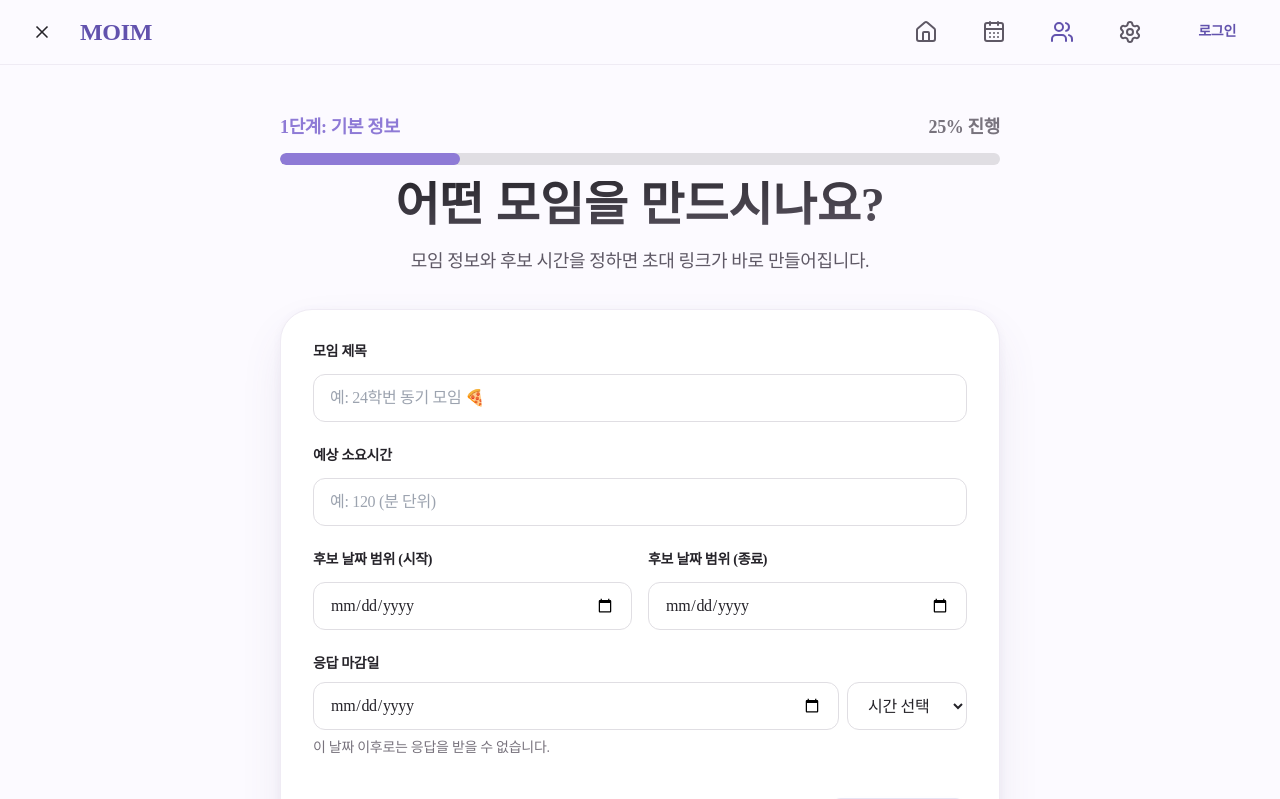
Test: CreateScheduleClient 복사 피드백 › 하단 노란 '참여자 링크 복사' 버튼 클릭 시 클립보드에 쓰고 '복사됨'으로 바뀐다
This screenshot has width=1280, height=799.
Type "60" into the number field labelled "예상 소요시간" at {"x": 640, "y": 502}, box [313, 478, 967, 526]
(page scrolled)
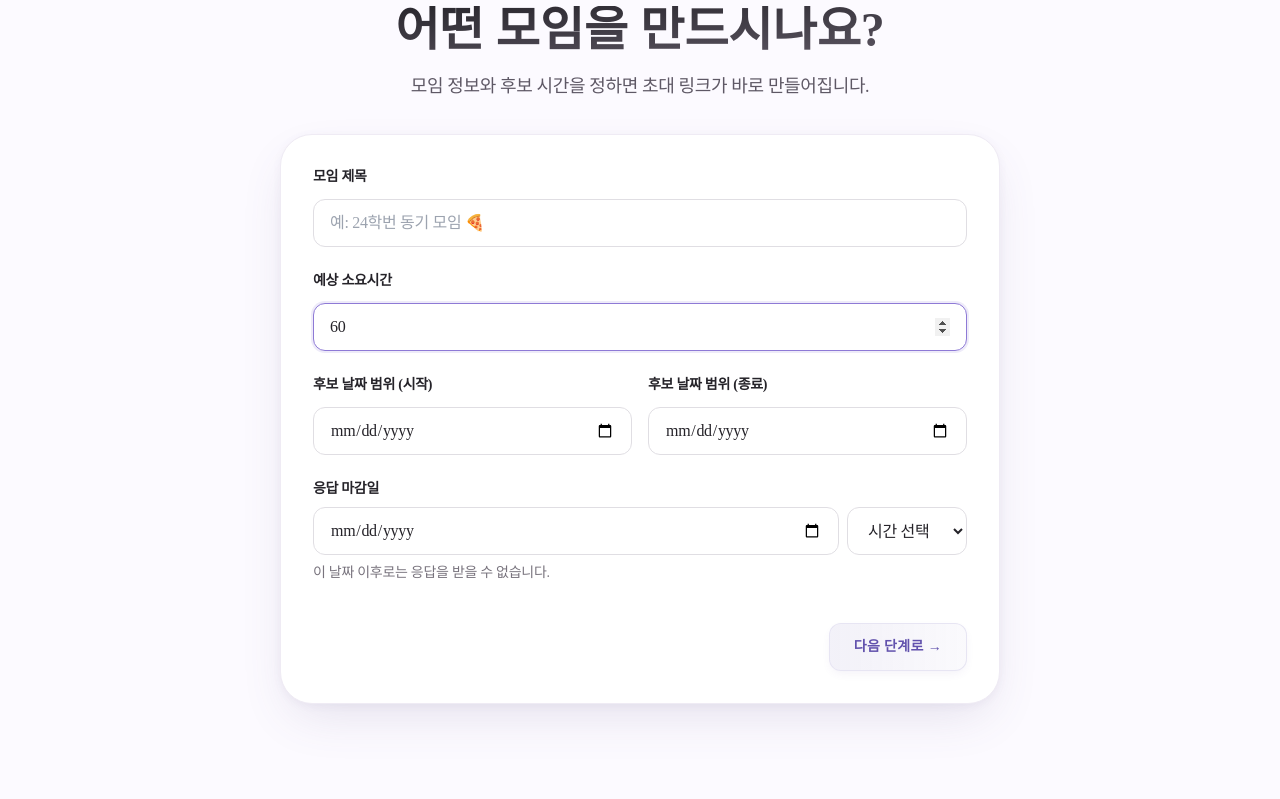
Click the button "다음 단계로 →" at {"x": 898, "y": 647}, box [829, 623, 967, 671]
(page scrolled)
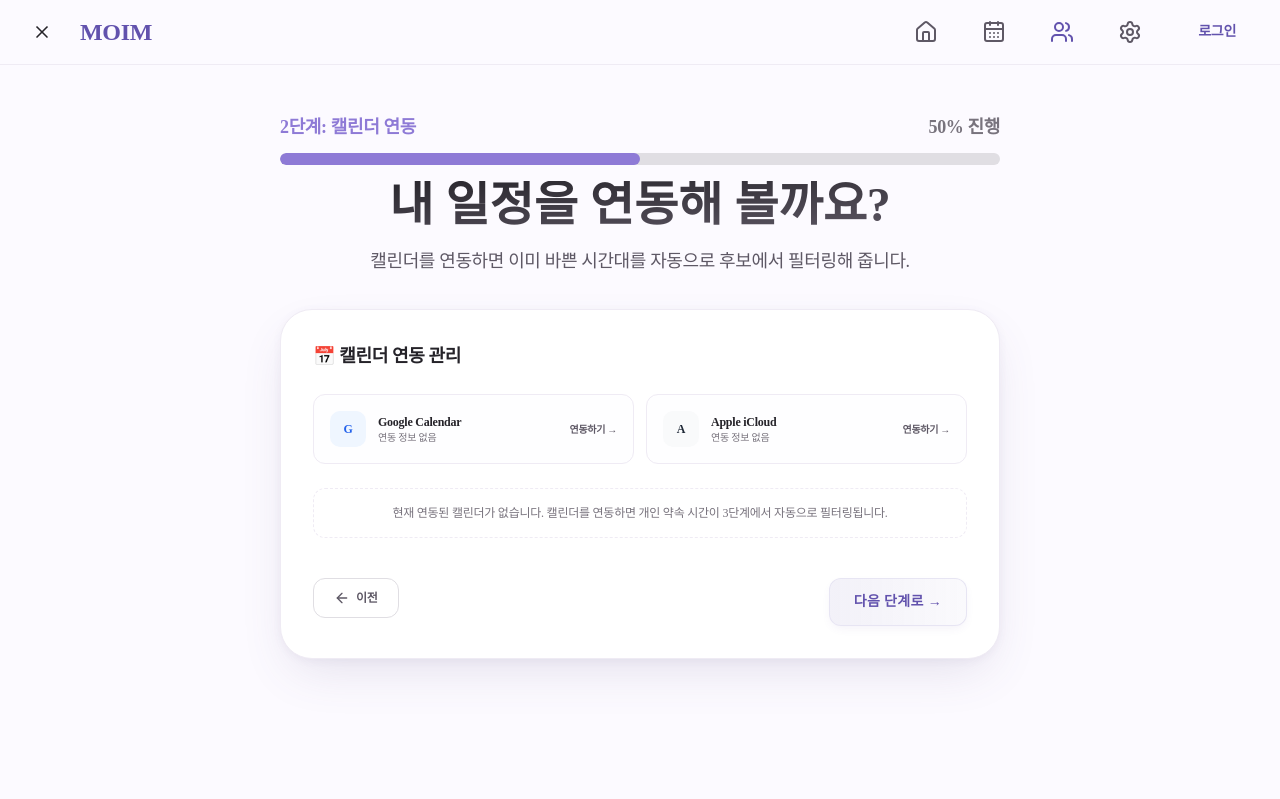
Click the button "다음 단계로 →" at {"x": 898, "y": 602}, box [829, 578, 967, 626]
(page scrolled)
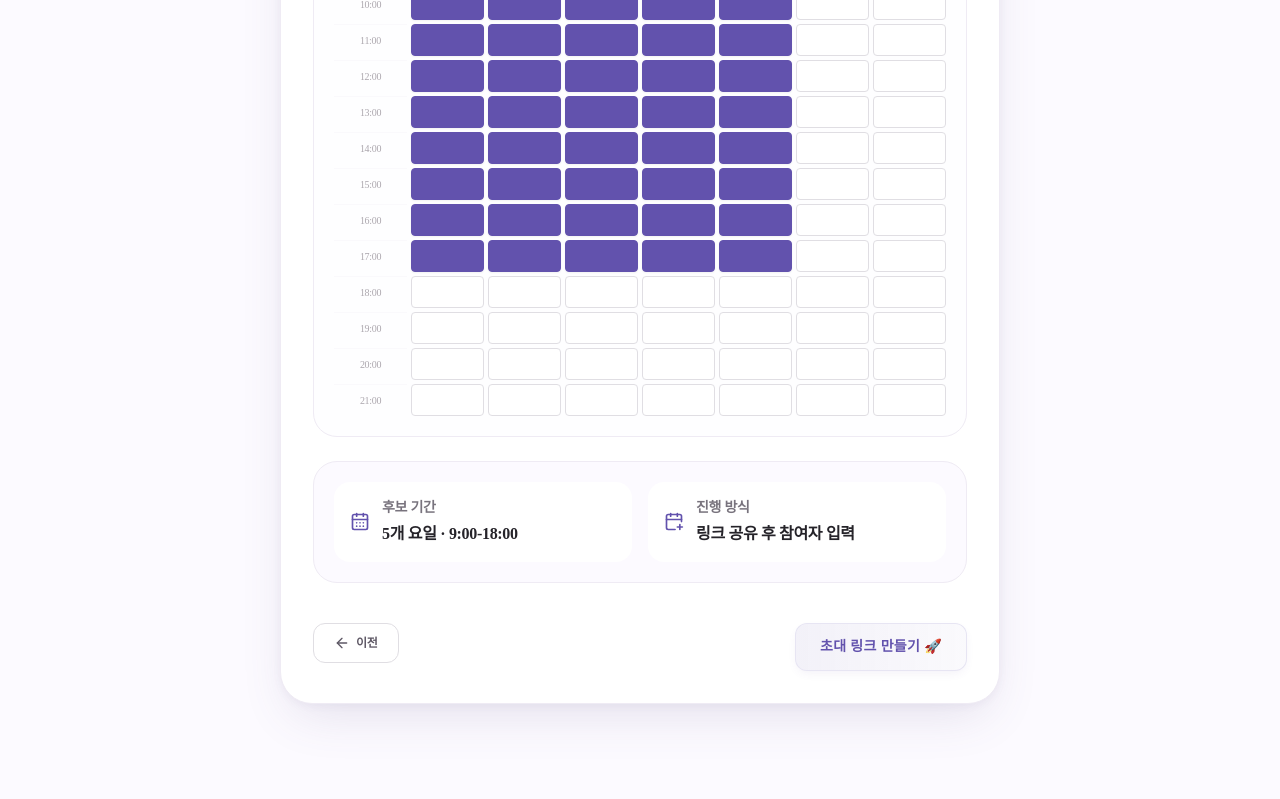
Click the button "초대 링크 만들기 🚀" at {"x": 881, "y": 647}, box [795, 623, 967, 671]
(page scrolled)
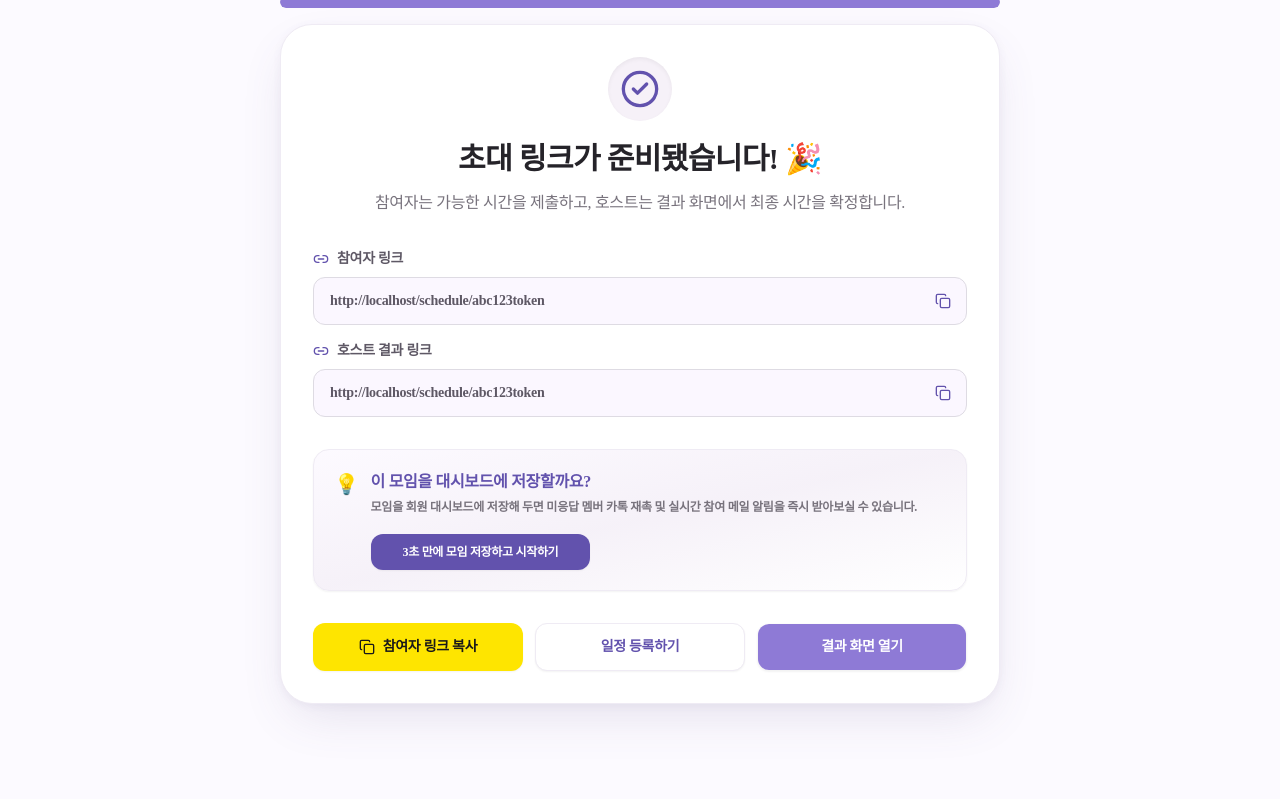
Expected: the heading "초대 링크가 준비됐습니다! 🎉" is shown, [458, 142, 822, 175]
Click the button with test id "copy-participant-link-bottom" at {"x": 418, "y": 646}, box [313, 622, 523, 670]
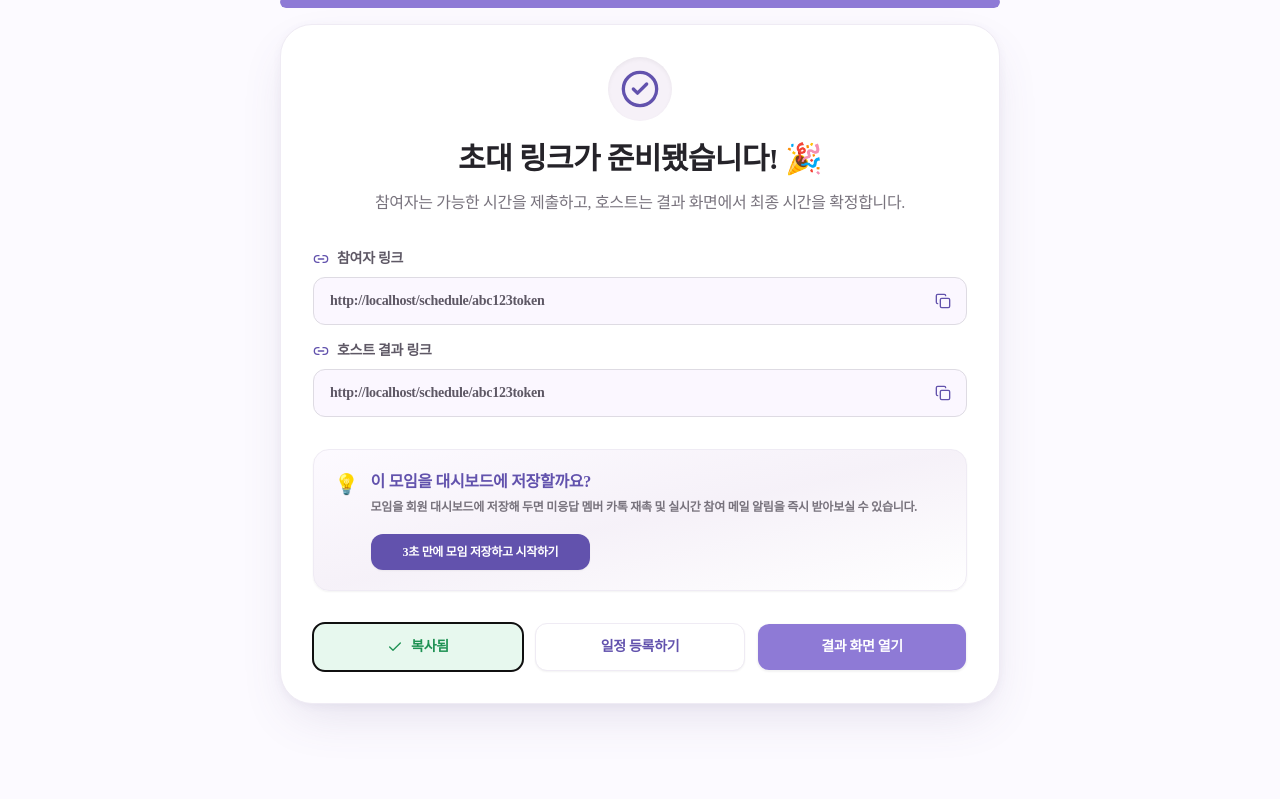
Expected: the button "복사됨" is shown, [313, 622, 523, 670]
